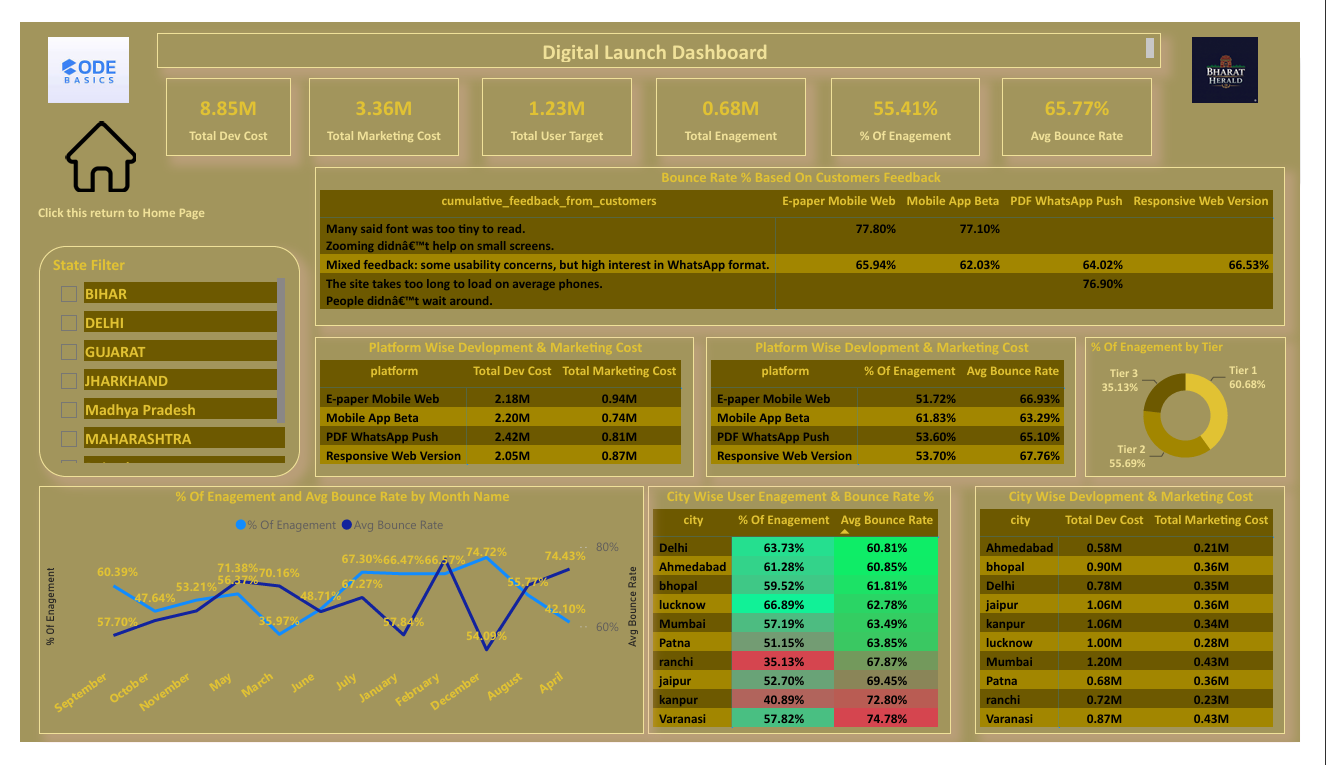

What the dashboard file says about the page in this screenshot:
{"tool":"powerbi","page":{"name":"Digital Launch Dashboard","canvas":[1280,720],"ordinal":5},"visuals":[{"type":"textbox","box":[136.2,9.7,1003.8,35],"z":0},{"type":"image","box":[0,9.7,136.2,75.9],"z":1000},{"type":"image","box":[1130.2,9.7,149.8,75.9],"z":2000},{"type":"card","fields":{"Values":["Digital Measure.Total Dev Cost"]},"box":[144.5,55,125,78],"z":3000},{"type":"card","fields":{"Values":["Digital Measure.Total Marketing Cost"]},"box":[288.2,55,149.9,78],"z":4000},{"type":"card","fields":{"Values":["Digital Measure.Total User Target"]},"box":[461.1,55,149.9,78],"z":5000},{"type":"card","fields":{"Values":["Digital Measure.Total Enagement"]},"box":[634.9,55,149.9,78],"z":6000},{"type":"card","fields":{"Values":["Digital Measure.% Of Enagement"]},"box":[809.6,55,149.9,78],"z":7000},{"type":"card","fields":{"Values":["Digital Measure.Avg Bounce Rate"]},"box":[980.7,55,149.9,78],"z":8000},{"type":"pivotTable","title":"City Wise Devlopment & Marketing Cost","fields":{"Values":["Digital Measure.Total Dev Cost","Digital Measure.Total Marketing Cost"],"Rows":["Dim_City.city"]},"box":[954.2,463,310.3,248],"z":9000},{"type":"pivotTable","title":"City Wise User Enagement & Bounce Rate %","fields":{"Values":["Digital Measure.% Of Enagement","Digital Measure.Avg Bounce Rate"],"Rows":["Dim_City.city"]},"box":[627.4,463,302.5,248],"z":10000},{"type":"pivotTable","title":"Platform Wise Devlopment & Marketing Cost","fields":{"Rows":["Fact_Digital.platform"],"Values":["Digital Measure.Total Dev Cost","Digital Measure.Total Marketing Cost"]},"box":[293.7,314.2,379.3,140.1],"z":11000},{"type":"pivotTable","title":"Platform Wise Devlopment & Marketing Cost","fields":{"Rows":["Fact_Digital.platform"],"Values":["Digital Measure.% Of Enagement","Digital Measure.Avg Bounce Rate"]},"box":[684.7,314.2,370.6,140.1],"z":12000},{"type":"slicer","title":"State Filter","fields":{"Values":["Dim_City.state"]},"box":[17.7,223.4,261.6,230.5],"z":13000},{"type":"lineChart","title":"% Of Enagement and Avg Bounce Rate by Month Name","fields":{"Category":["Fact_Digital.NewMonth Name"],"Y":["Digital Measure.% Of Enagement"],"Y2":["Digital Measure.Avg Bounce Rate"]},"box":[17.7,462.9,605.6,248.3],"z":14000},{"type":"pivotTable","title":"Bounce Rate % Based On Customers Feedback","fields":{"Rows":["Fact_Digital.cumulative_feedback_from_customers"],"Values":["Digital Measure.Avg Bounce Rate"],"Columns":["Fact_Digital.platform"]},"box":[293.7,144,970.7,159.5],"z":15000},{"type":"donutChart","title":"% Of Enagement by Tier","fields":{"Category":["Dim_City.tier"],"Y":["Digital Measure.% Of Enagement"]},"box":[1064.1,314.2,201.3,140.1],"z":16000},{"type":"image","box":[39.9,94,80.7,80.7],"z":17000},{"type":"textbox","box":[11.5,174.7,180.9,35.5],"z":18000}]}

Visuals, with their boxes in screenshot pixels (x1, y1, x2, y2), scaled from the page's 1280x720 canvas onto the 1326x765 screenshot:
textbox: [x1=141, y1=10, x2=1181, y2=47]
image: [x1=0, y1=10, x2=141, y2=91]
image: [x1=1171, y1=10, x2=1325, y2=91]
card - Digital Measure.Total Dev Cost: [x1=150, y1=58, x2=279, y2=141]
card - Digital Measure.Total Marketing Cost: [x1=299, y1=58, x2=454, y2=141]
card - Digital Measure.Total User Target: [x1=478, y1=58, x2=633, y2=141]
card - Digital Measure.Total Enagement: [x1=658, y1=58, x2=813, y2=141]
card - Digital Measure.% Of Enagement: [x1=839, y1=58, x2=994, y2=141]
card - Digital Measure.Avg Bounce Rate: [x1=1016, y1=58, x2=1171, y2=141]
"City Wise Devlopment & Marketing Cost" pivotTable: [x1=988, y1=492, x2=1310, y2=755]
"City Wise User Enagement & Bounce Rate %" pivotTable: [x1=650, y1=492, x2=963, y2=755]
"Platform Wise Devlopment & Marketing Cost" pivotTable: [x1=304, y1=334, x2=697, y2=483]
"Platform Wise Devlopment & Marketing Cost" pivotTable: [x1=709, y1=334, x2=1093, y2=483]
"State Filter" slicer: [x1=18, y1=237, x2=289, y2=482]
"% Of Enagement and Avg Bounce Rate by Month Name" lineChart: [x1=18, y1=492, x2=646, y2=756]
"Bounce Rate % Based On Customers Feedback" pivotTable: [x1=304, y1=153, x2=1310, y2=322]
"% Of Enagement by Tier" donutChart: [x1=1102, y1=334, x2=1311, y2=483]
image: [x1=41, y1=100, x2=125, y2=186]
textbox: [x1=12, y1=186, x2=199, y2=223]
